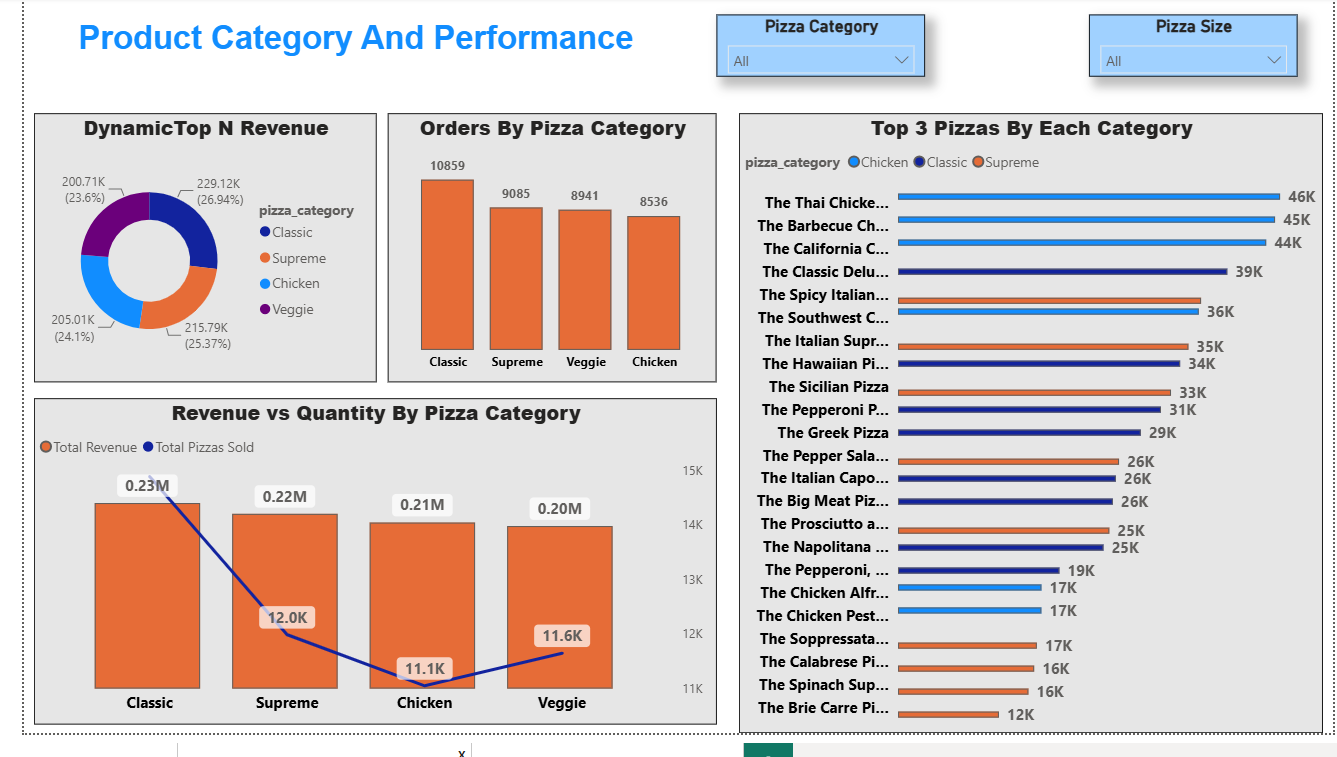

The page's visual inventory and layout, read from the dashboard file:
{"tool":"powerbi","page":{"name":"Product Category And Performance ","canvas":[1280,720],"ordinal":1},"visuals":[{"type":"textbox","box":[0,17.1,649.3,61.1],"z":0},{"type":"donutChart","title":"DynamicTop N Revenue ","fields":{"Y":["TopN_Selector.Top N Revenue"],"Category":["Pizza_Sales.pizza_category"]},"box":[9.8,113.7,335.1,262.9],"z":1000},{"type":"clusteredBarChart","title":"Top 3 Pizzas By Each Category","fields":{"Category":["Pizza_Sales.pizza_name"],"Y":["Measure Table.Total Revenue"],"Series":["Pizza_Sales.pizza_category"]},"box":[699.5,113.7,571.1,606.5],"z":2000},{"type":"clusteredColumnChart","title":" Orders By Pizza Category","fields":{"Category":["Pizza_Sales.pizza_category"],"Y":["Measure Table.Total Orders"]},"box":[355.8,113.7,321.6,262.9],"z":3000},{"type":"lineClusteredColumnComboChart","title":"Revenue vs    Quantity By  Pizza Category","fields":{"Category":["Pizza_Sales.pizza_category"],"Y":["Measure Table.Total Revenue"],"Y2":["Measure Table.Total Pizzas Sold"]},"box":[9.8,392.5,667.7,319.2],"z":4000},{"type":"slicer","title":"Pizza Category","fields":{"Values":["Pizza_Sales.pizza_category"]},"box":[677.4,17.1,204.2,61.1],"z":5000},{"type":"slicer","title":"Pizza Size","fields":{"Values":["Pizza_Sales.pizza_size"]},"box":[1041.9,17.1,204.2,61.1],"z":6000}]}

Visuals, with their boxes in screenshot pixels (x1, y1, x2, y2), scaled from the page's 1280x720 canvas onto the 1337x757 screenshot:
textbox: 0,18,678,82
"DynamicTop N Revenue " donutChart: 10,120,360,396
"Top 3 Pizzas By Each Category" clusteredBarChart: 731,120,1327,756
" Orders By Pizza Category" clusteredColumnChart: 372,120,708,396
"Revenue vs    Quantity By  Pizza Category" lineClusteredColumnComboChart: 10,413,708,748
"Pizza Category" slicer: 708,18,921,82
"Pizza Size" slicer: 1088,18,1302,82
